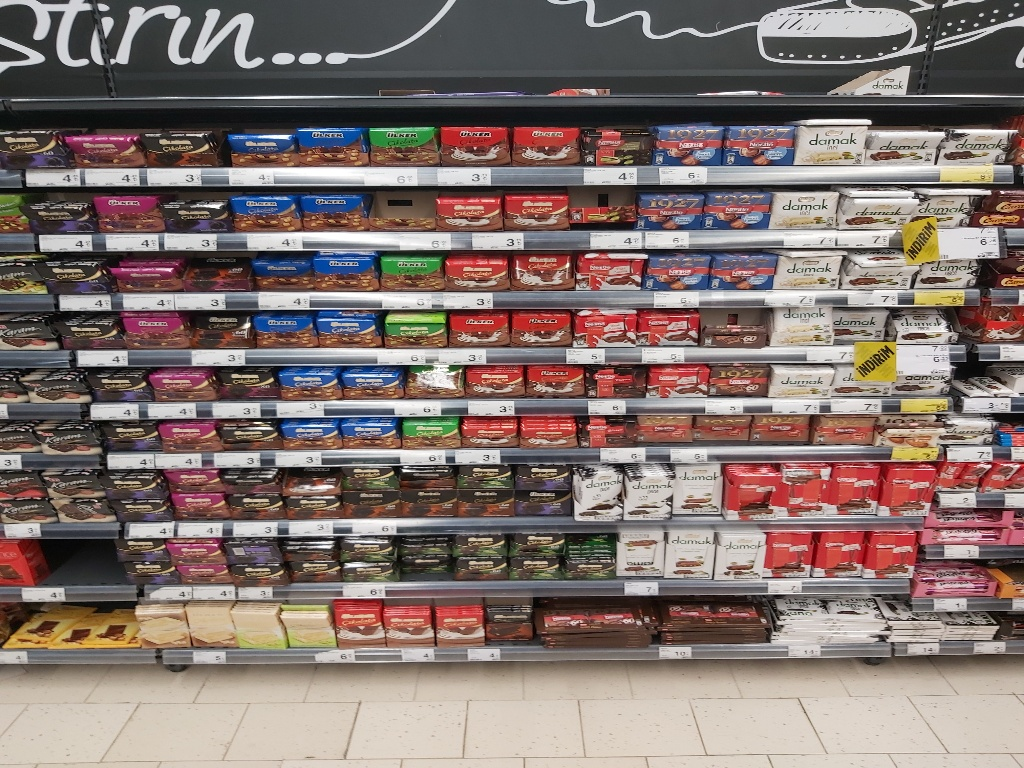urun: (567, 458, 628, 527), (667, 458, 726, 517), (724, 458, 783, 517), (719, 120, 794, 165), (88, 187, 163, 232), (225, 184, 300, 229), (632, 184, 707, 229), (33, 251, 108, 296), (303, 248, 378, 293), (620, 460, 678, 518), (877, 456, 932, 517), (507, 119, 581, 164), (580, 119, 654, 164), (650, 119, 724, 164), (795, 119, 869, 164), (292, 187, 366, 232), (499, 183, 573, 228), (700, 187, 774, 232), (768, 184, 842, 229), (370, 244, 444, 289), (838, 186, 913, 230), (289, 123, 367, 165), (573, 247, 644, 293), (156, 186, 230, 230), (433, 186, 507, 230), (106, 250, 180, 294), (777, 457, 833, 515), (435, 118, 512, 160), (643, 250, 713, 296), (708, 248, 778, 294), (364, 122, 440, 164), (826, 460, 882, 517), (14, 360, 90, 401), (663, 524, 717, 580), (713, 524, 767, 580), (33, 411, 97, 458), (116, 305, 189, 346), (184, 308, 256, 349), (868, 124, 943, 163), (763, 527, 817, 581), (818, 525, 872, 579), (448, 250, 511, 296), (20, 192, 96, 230), (60, 129, 138, 166), (639, 357, 703, 402), (708, 356, 772, 401), (771, 361, 835, 406), (867, 526, 920, 580), (511, 246, 573, 292), (940, 122, 1015, 160), (138, 127, 215, 164), (220, 131, 297, 168), (433, 596, 486, 649), (230, 596, 283, 649), (134, 596, 187, 649), (380, 594, 434, 646), (329, 598, 383, 650), (52, 306, 122, 346), (150, 360, 216, 402), (772, 251, 841, 291), (339, 356, 407, 396), (282, 598, 334, 650), (182, 594, 234, 646), (443, 307, 512, 346), (507, 307, 576, 346), (568, 303, 637, 342), (631, 307, 700, 346), (460, 361, 527, 401), (396, 358, 463, 398), (248, 310, 317, 348), (314, 310, 383, 348), (379, 310, 448, 348), (762, 301, 831, 339), (273, 360, 340, 399), (524, 360, 591, 399), (888, 303, 954, 342), (330, 408, 396, 447), (394, 408, 460, 447), (687, 403, 753, 442), (746, 404, 812, 443), (810, 403, 876, 442), (88, 361, 150, 402), (508, 408, 573, 447), (626, 404, 691, 443), (215, 360, 275, 402), (573, 406, 639, 444), (934, 454, 992, 497), (826, 306, 891, 344), (155, 415, 220, 453), (215, 415, 280, 453), (275, 410, 340, 448), (452, 410, 517, 448), (513, 481, 577, 515), (41, 467, 110, 497), (42, 490, 111, 520), (252, 250, 300, 292), (337, 484, 393, 520), (460, 481, 516, 517), (401, 483, 457, 518), (96, 419, 154, 451), (339, 465, 401, 492), (228, 471, 289, 498), (229, 492, 291, 518), (170, 493, 229, 520), (515, 454, 576, 480), (397, 465, 458, 490), (452, 461, 513, 486), (165, 467, 223, 493), (334, 532, 392, 558), (394, 530, 452, 556), (453, 558, 511, 584), (108, 471, 165, 497), (452, 530, 509, 556), (506, 554, 563, 580), (337, 559, 394, 585), (232, 558, 289, 584), (113, 562, 170, 588), (173, 558, 230, 584), (106, 493, 164, 518), (119, 539, 177, 564), (170, 538, 228, 563), (563, 552, 621, 577), (280, 534, 338, 559), (508, 525, 566, 550), (227, 538, 284, 563)
urun2: (1, 127, 63, 170)
